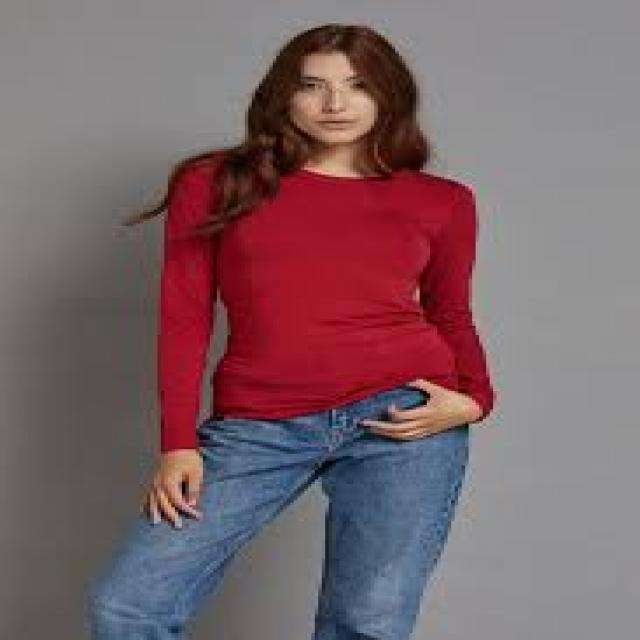plain: (148, 152, 498, 418)
